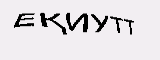Е: (13, 12, 36, 28)
И: (65, 10, 90, 32)
Т: (122, 17, 134, 37), (109, 15, 122, 33)
У: (90, 14, 110, 32)
Қ: (40, 11, 66, 37)
